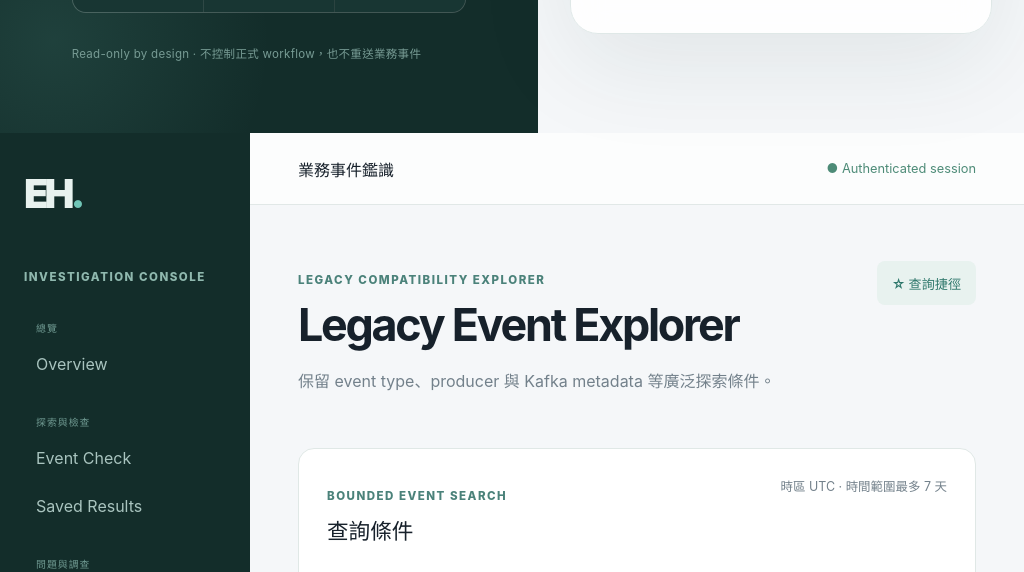
Test: QueryShortcutsDrawer › deletes only the owner's item and refreshes the personal cache
(page scrolled)
Click the button with test id "query-shortcuts-open".
click(926, 283)  # box [877,261,976,305]
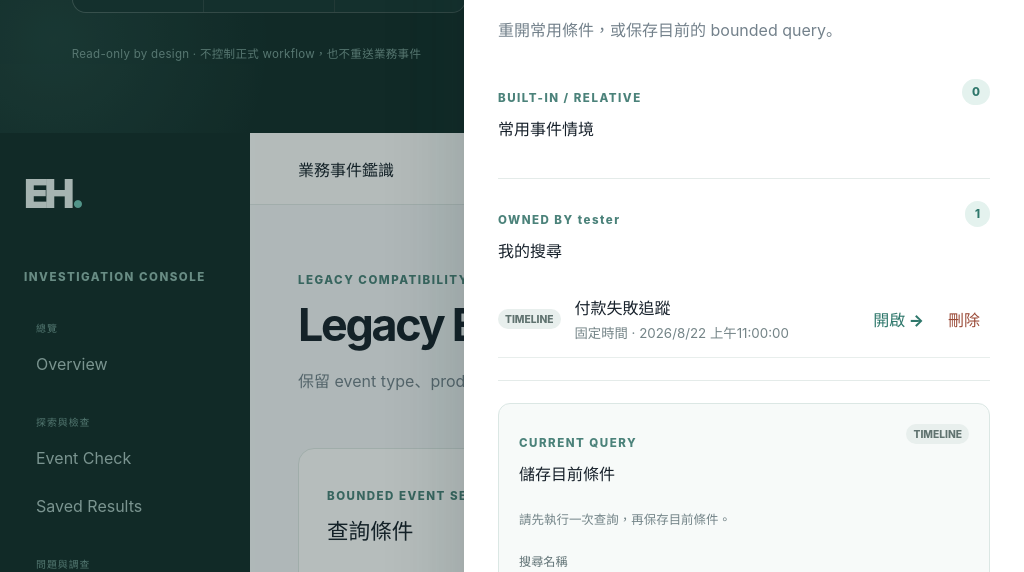
Click the button with test id "saved-search-delete-0".
click(964, 319)  # box [938,297,990,341]
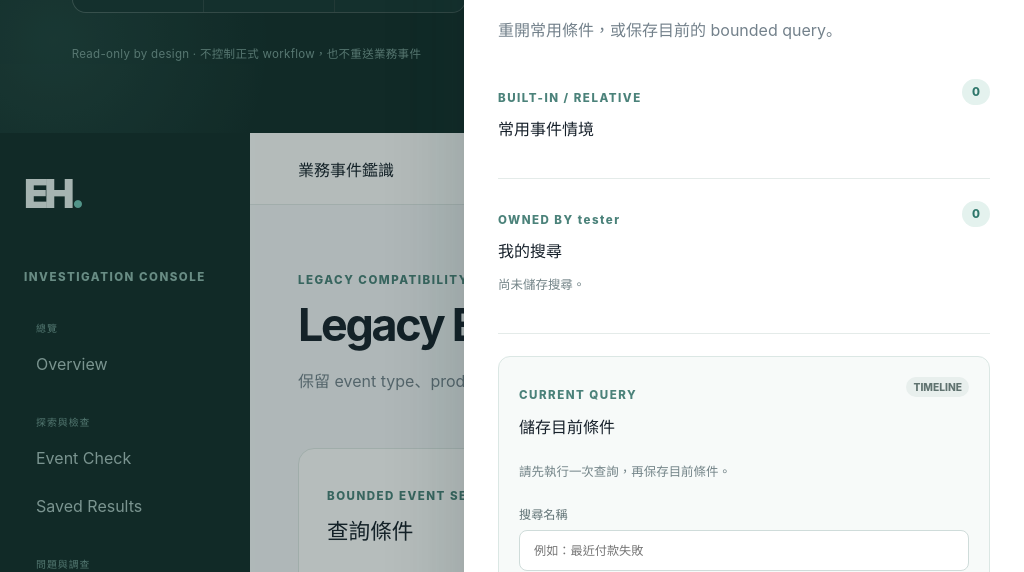
Now the element with test id "saved-search-row-0" is gone
